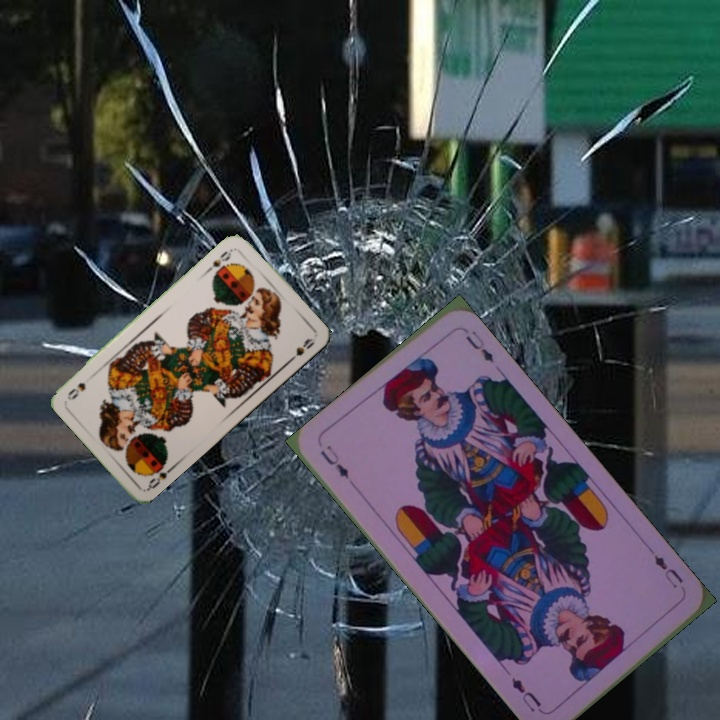EU: (649, 550, 686, 591), (316, 440, 352, 482)
SO: (143, 455, 177, 492), (202, 244, 235, 276)
